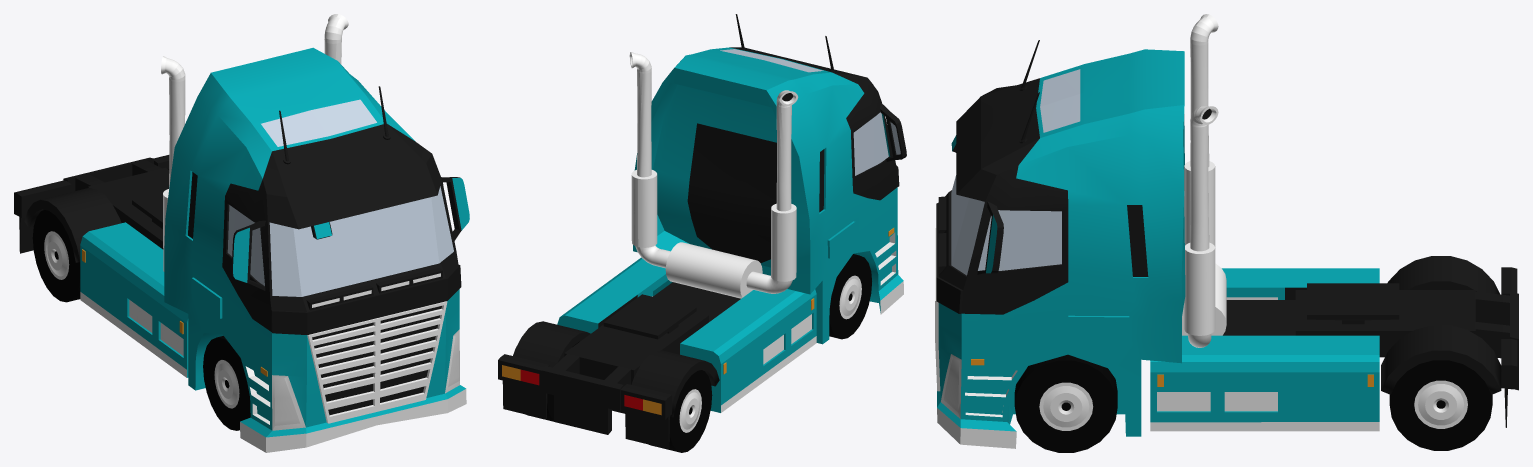
Rendered from Volvo.fbx.
3 views of the same model, side by side, from view 1: azimuth 30°, elevation 25°; view 2: azimuth 150°, elevation 25°; view 3: azimuth 270°, elevation 25° (orthographic). The views are drawn at different scales.
Parts seen in each view (by area): view 1: body, boxs, front right wheel, back right wheel, arches, tubes, mirrors; view 2: body, boxs, tubes, arches, front right wheel, back right wheel, mirrors; view 3: body, boxs, tubes, front left wheel, arches, back left wheel, mirrors.
Part boxes in pixels (x1,y1,x2,y2): body: [14, 47, 466, 452]; boxs: [80, 222, 188, 377]; front right wheel: [203, 336, 250, 430]; back right wheel: [32, 210, 80, 302]; arches: [24, 169, 169, 262]; tubes: [161, 14, 348, 271]; mirrors: [231, 177, 469, 290]; body: [498, 47, 903, 449]; boxs: [557, 257, 816, 412]; tubes: [629, 52, 798, 298]; arches: [513, 321, 719, 417]; front right wheel: [829, 254, 871, 339]; back right wheel: [649, 370, 712, 452]; mirrors: [880, 103, 906, 161]; body: [935, 49, 1518, 448]; boxs: [1150, 268, 1379, 431]; tubes: [1182, 14, 1226, 347]; front left wheel: [1014, 354, 1117, 452]; arches: [1381, 256, 1501, 394]; back left wheel: [1389, 360, 1492, 450]; mirrors: [977, 201, 1003, 274].
Bounding box in the file's own units: 277 × 359 × 550.
